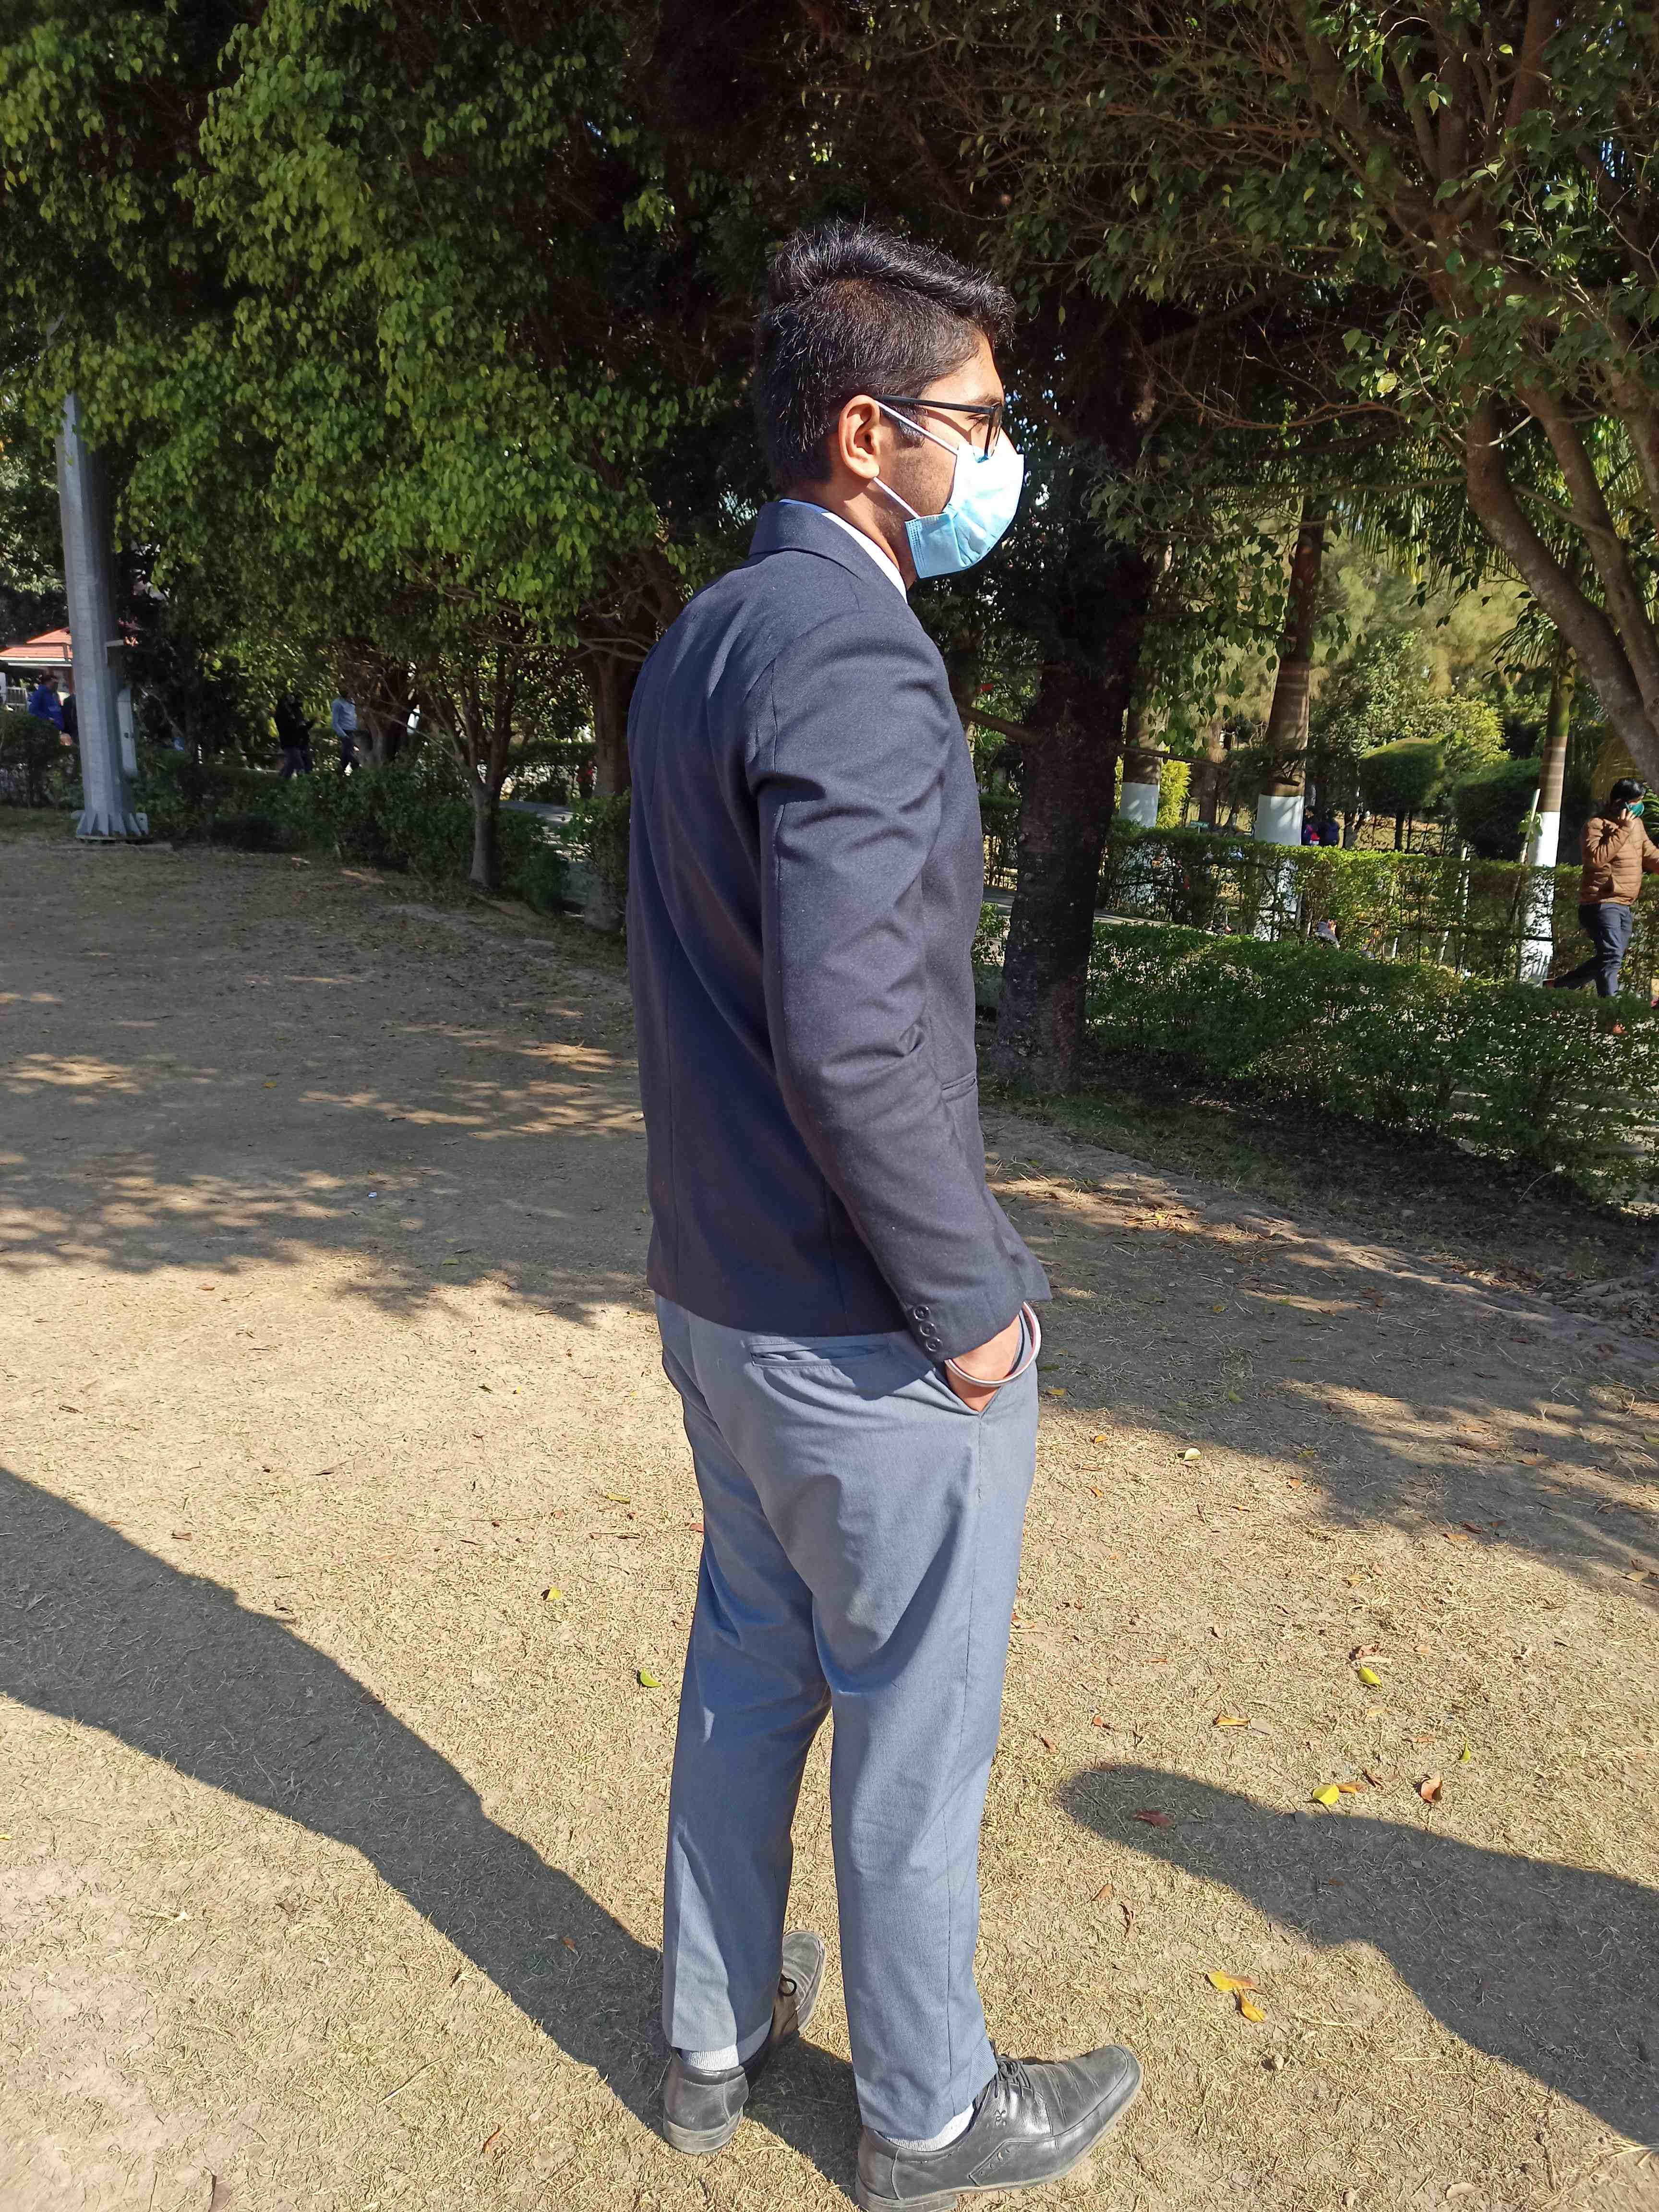blazer: (606, 500, 1019, 1345)
pant: (641, 1271, 1046, 2064)
